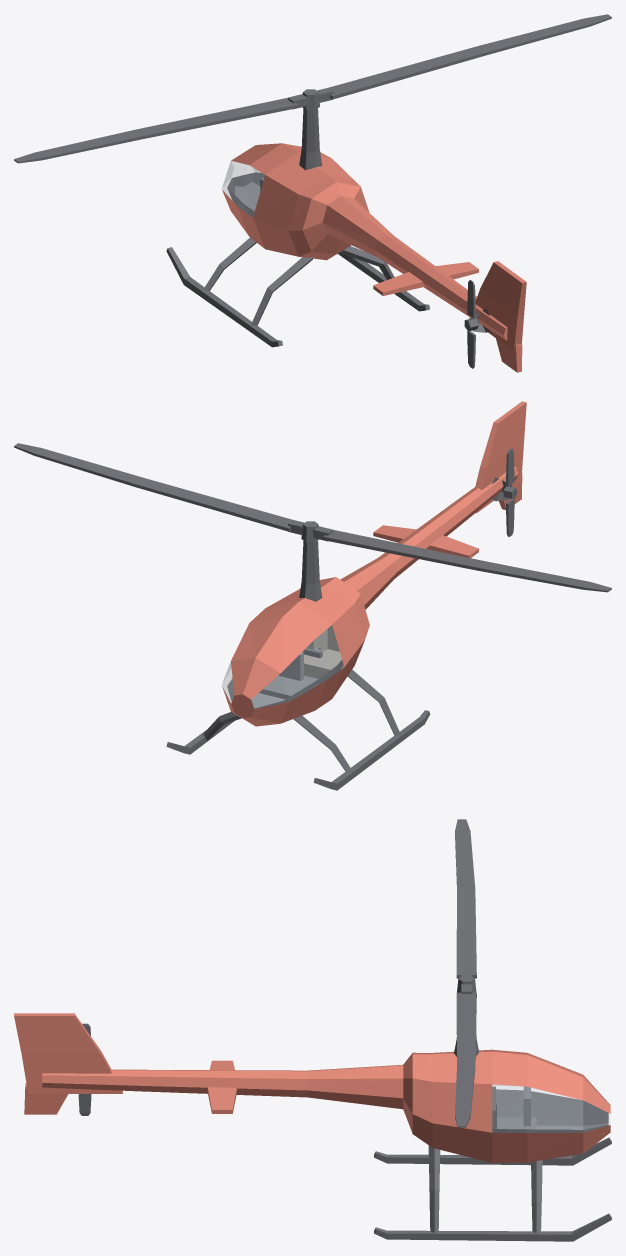
The model's file is helicopter_lowpoly_min.glb.
3 renders of one model, top to bottom at view 1: azimuth 30°, elevation 25°; view 2: azimuth 150°, elevation 25°; view 3: azimuth 270°, elevation 25°, orthographic. The views are drawn at different scales.
Parts seen in each view (by area): view 1: Body, MainRotor, Canopy, TailRotor; view 2: Body, MainRotor, Canopy, TailRotor; view 3: Body, MainRotor, Canopy.
Boxes of the visible parts, x1,y1,x2,y2 form: Body: (166,108,526,372); MainRotor: (14,14,611,163); Canopy: (222,161,264,216); TailRotor: (464,280,478,368); Body: (166,401,526,790); MainRotor: (14,443,611,592); Canopy: (222,626,343,708); TailRotor: (503,448,517,536); Body: (14,1013,611,1241); MainRotor: (455,819,476,1127); Canopy: (492,1084,609,1132).
Size of the model in its own units: 7.67 by 2.67 by 6.31.
